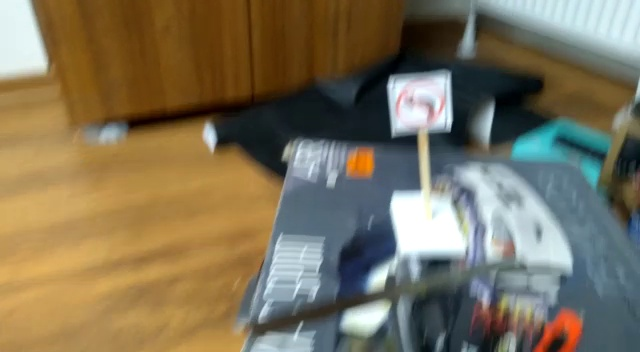sola_donulmez: (389, 76, 448, 129)
